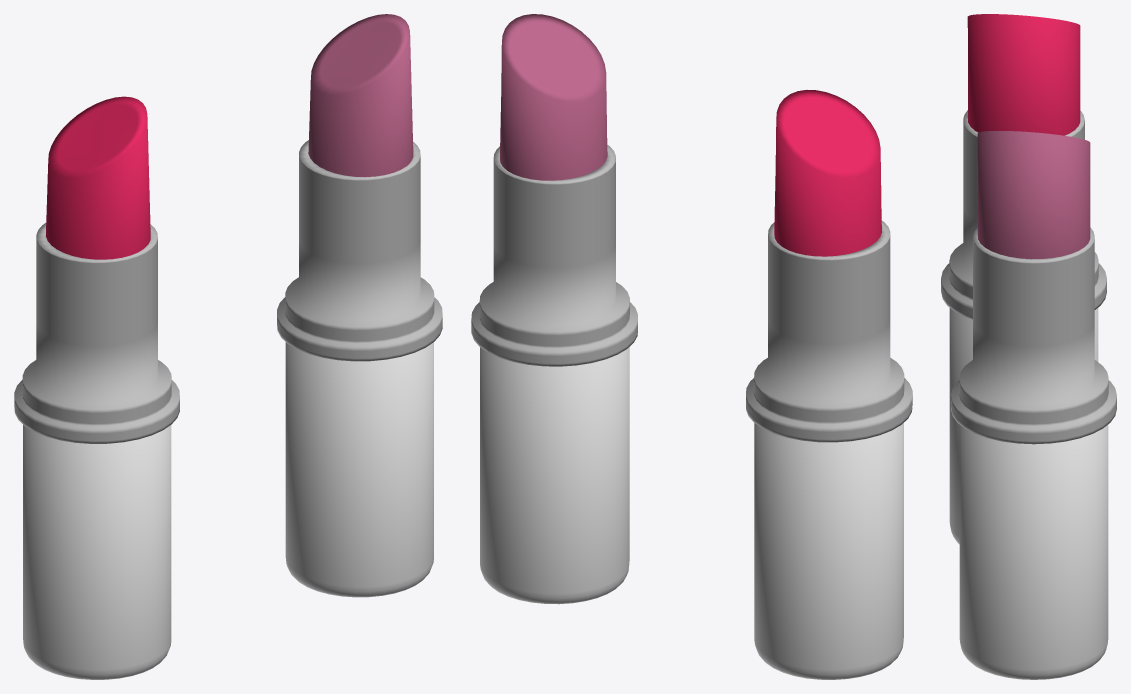
The model's file is lip2.glb.
3 renders of one model, left to right at view 1: azimuth 30°, elevation 25°; view 2: azimuth 150°, elevation 25°; view 3: azimuth 270°, elevation 25°, orthographic.
Parts seen in each view (by area): view 1: 円柱.002, 円柱, 円柱.001, 円柱.004, 円柱.003, 円柱.005; view 2: 円柱.002, 円柱, 円柱.001, 円柱.004, 円柱.005, 円柱.003; view 3: 円柱.002, 円柱.004, 円柱.005, 円柱.003, 円柱.001, 円柱.
Part boxes in pixels (x1=…): 円柱.002: x1=285, y1=342, x2=433, y2=597; 円柱: x1=23, y1=425, x2=171, y2=679; 円柱.001: x1=14, y1=223, x2=179, y2=443; 円柱.004: x1=277, y1=140, x2=442, y2=361; 円柱.003: x1=46, y1=96, x2=150, y2=259; 円柱.005: x1=308, y1=14, x2=413, y2=177; 円柱.002: x1=480, y1=347, x2=629, y2=604; 円柱: x1=754, y1=423, x2=903, y2=679; 円柱.001: x1=746, y1=220, x2=912, y2=442; 円柱.004: x1=471, y1=145, x2=637, y2=366; 円柱.005: x1=500, y1=14, x2=607, y2=180; 円柱.003: x1=774, y1=90, x2=881, y2=256; 円柱.002: x1=959, y1=425, x2=1108, y2=679; 円柱.004: x1=951, y1=227, x2=1116, y2=444; 円柱.005: x1=977, y1=131, x2=1090, y2=259; 円柱.003: x1=967, y1=14, x2=1080, y2=135; 円柱.001: x1=941, y1=110, x2=1106, y2=319; 円柱: x1=949, y1=308, x2=1098, y2=544.
Bounding box in the file's own units: 5.97 × 7.68 × 2.21.
